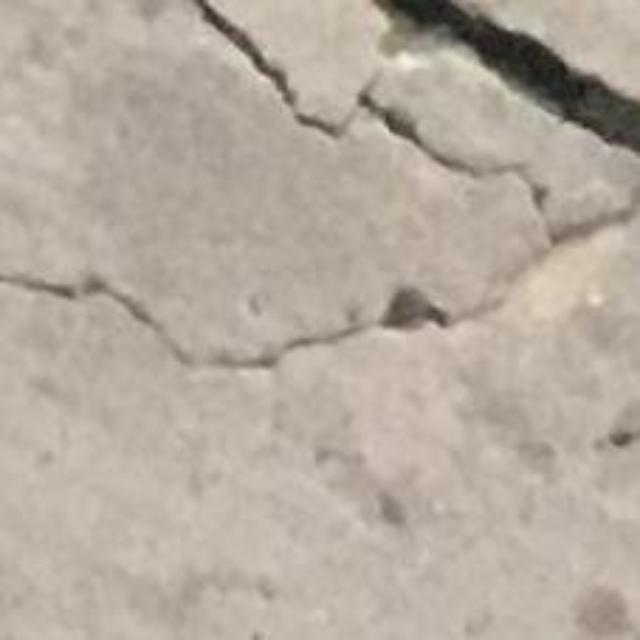crack: (192, 0, 639, 245)
